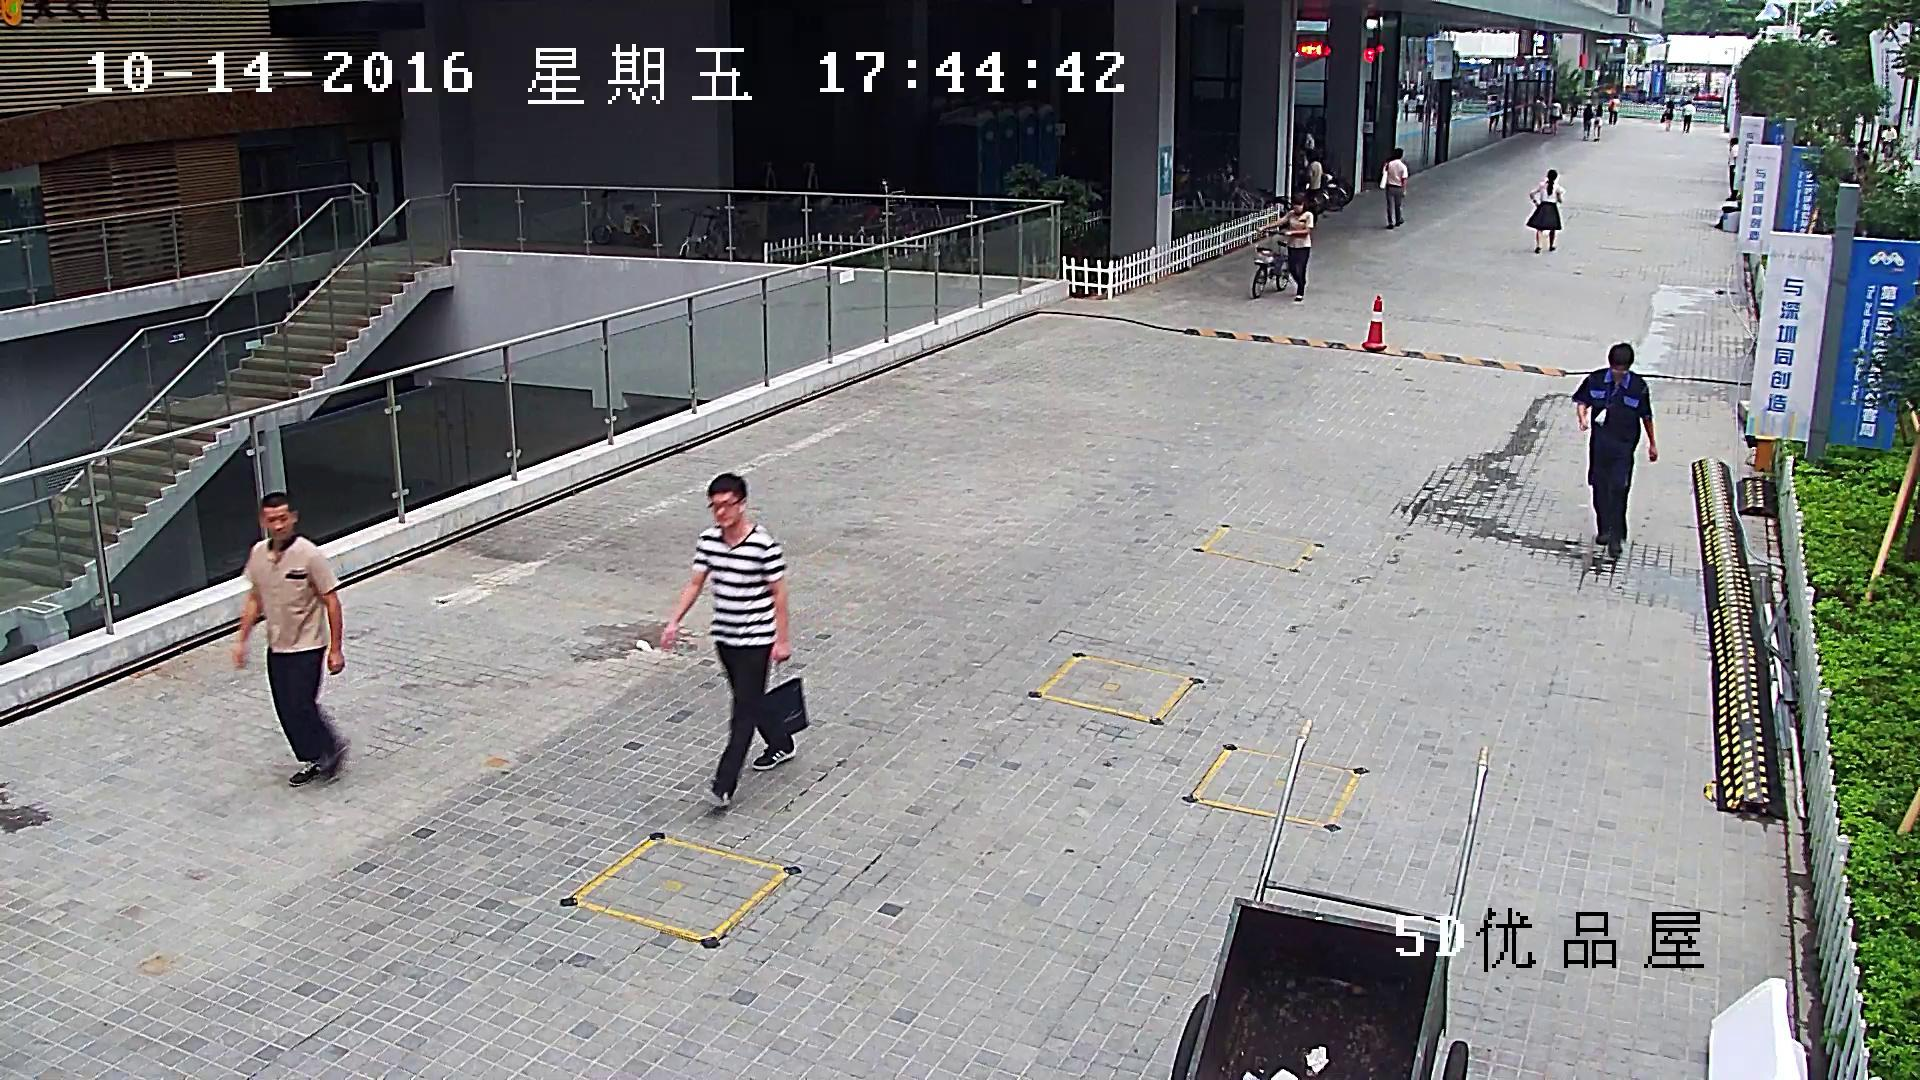person: (661, 473, 808, 805), (232, 492, 346, 786), (1572, 342, 1656, 557), (1252, 196, 1313, 300), (1256, 196, 1314, 300), (1525, 169, 1565, 253), (1379, 147, 1408, 229), (1304, 149, 1322, 225), (1725, 137, 1738, 200), (1880, 125, 1897, 160), (1486, 95, 1500, 134), (1880, 125, 1897, 154), (1532, 96, 1546, 132), (1549, 96, 1561, 135), (1681, 100, 1694, 133), (1660, 100, 1673, 132), (1583, 104, 1593, 139), (1593, 102, 1602, 140), (1608, 95, 1618, 126), (1416, 87, 1426, 122), (1403, 88, 1409, 121)
